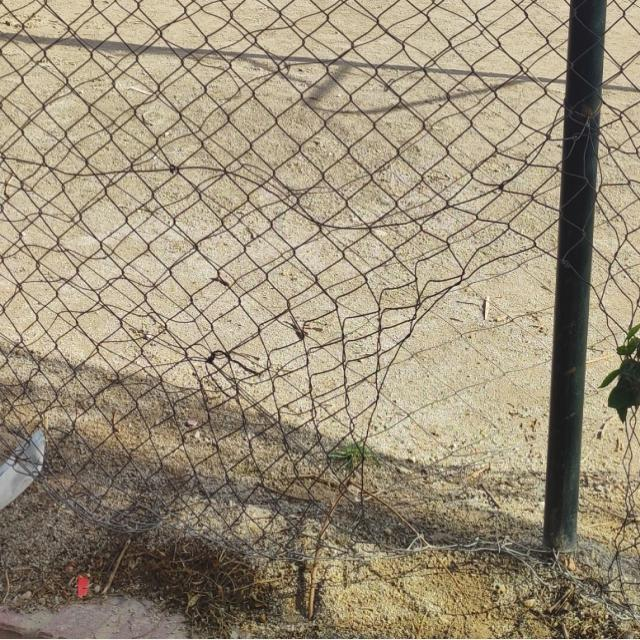fence line: (371, 247, 625, 594)
